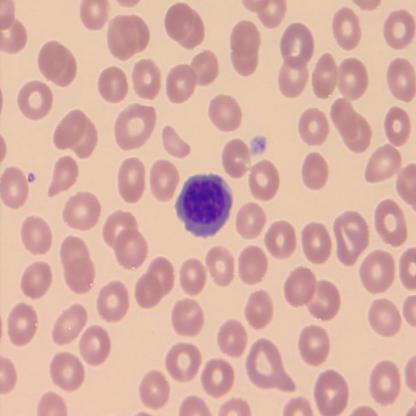NRC: (172, 169, 234, 240)
